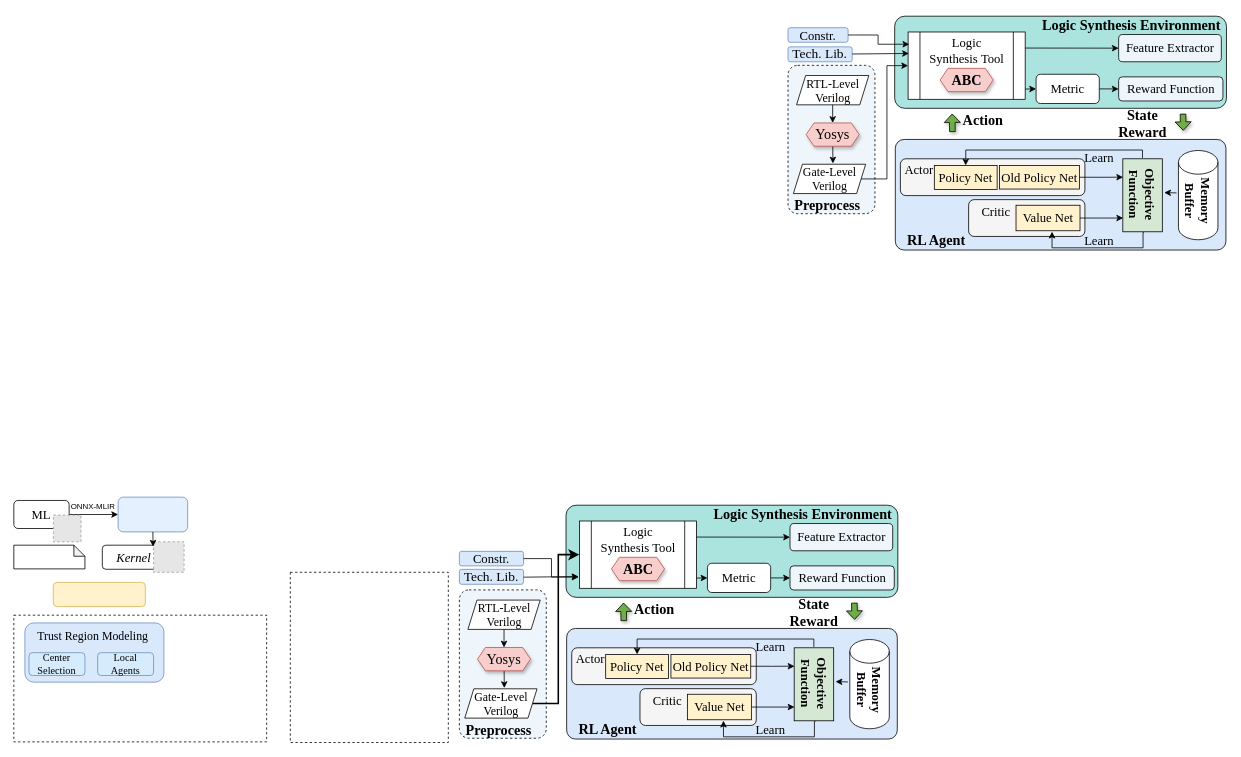
Some shapes in this 1241 by 757 pixel diagram are drawn without their labels. Grey dashed boxes stand in for pictures. Here are the shapes that lost their labels. From the top down, the centre of each, then its label:
At point (152, 514): "ONNX-MLIR Converter".
At point (49, 556): "Config. File".
At point (99, 594): "Space Modeling".
